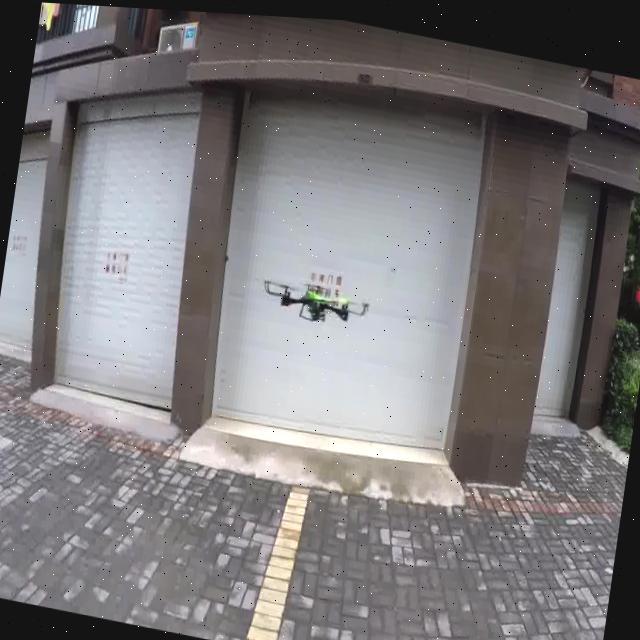drone: (257, 251, 377, 341)
